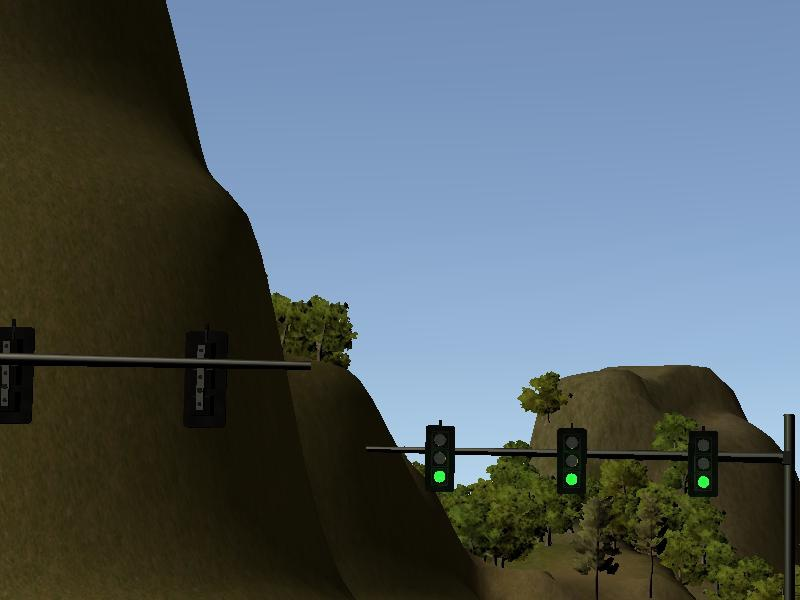Green: (557, 429, 588, 496), (426, 425, 455, 490), (689, 432, 718, 497)
